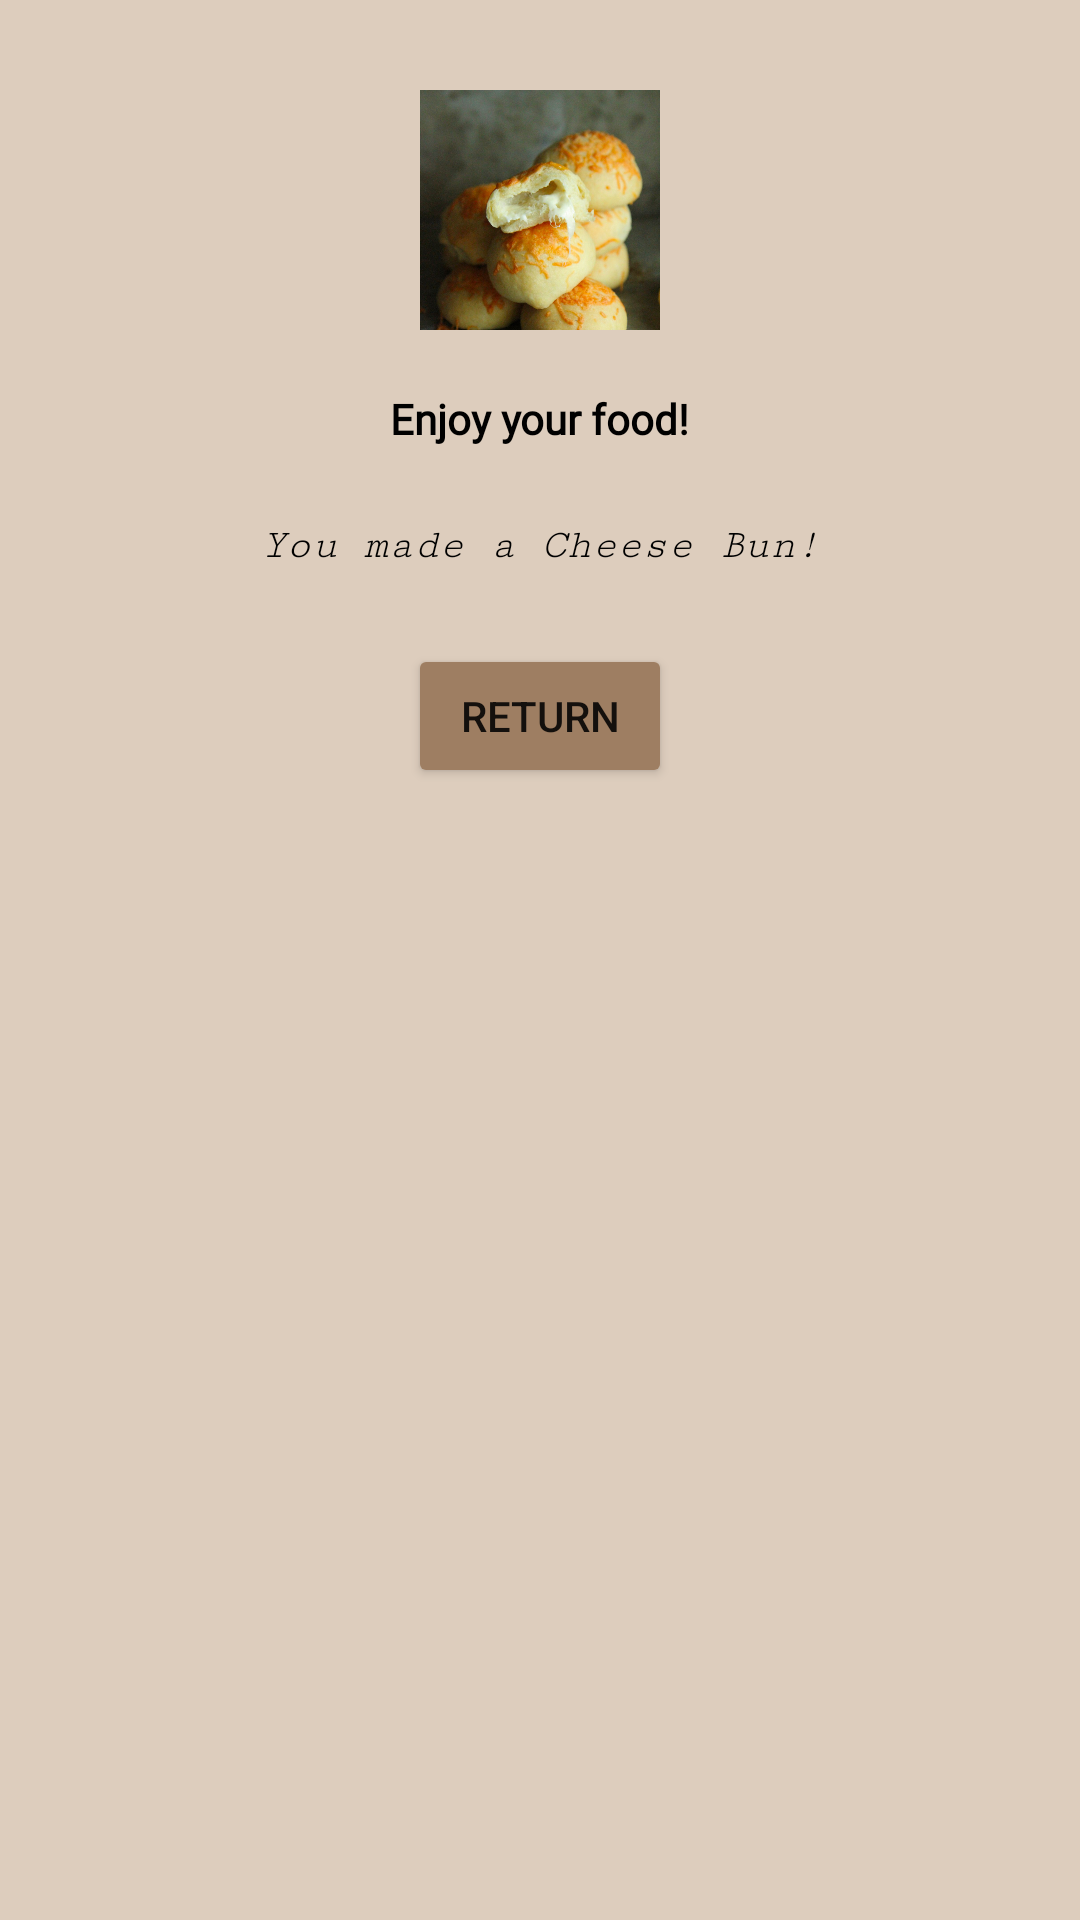

Named icons in this screenshot (1080×1920) and their bounding boxes, (x1, y1, x2, y2):
cheesebuns: (420, 90, 660, 330)
